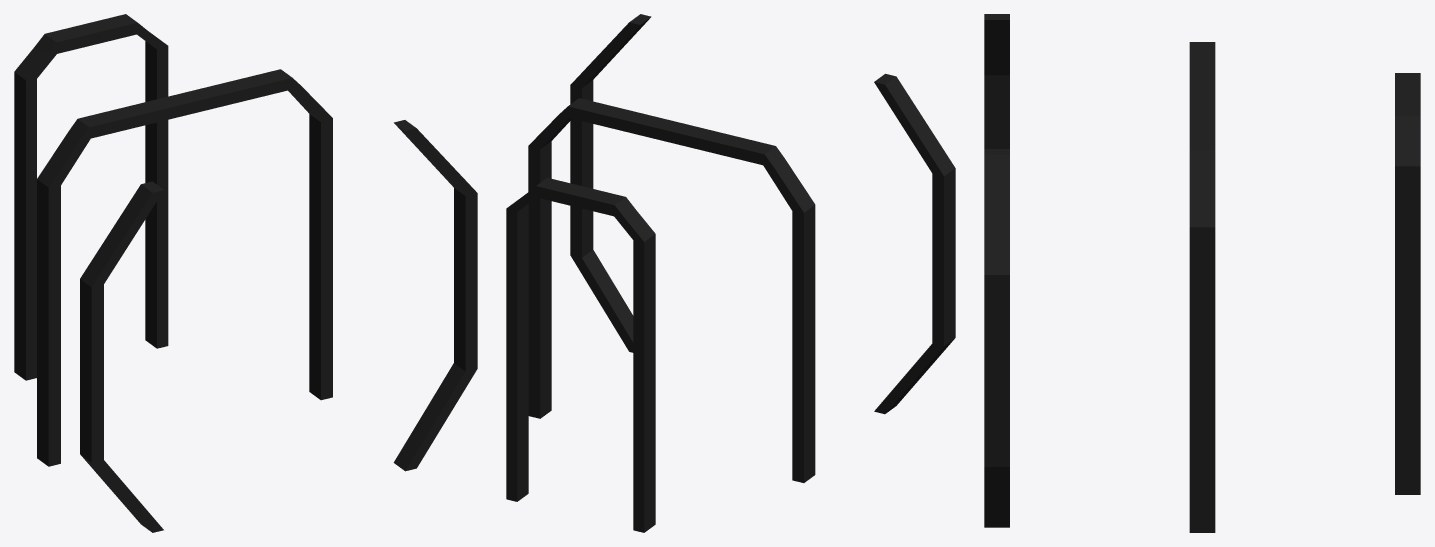
Rendered from CalShipDoorExtra.gltf.
3 renders of one model, left to right at view 1: azimuth 30°, elevation 25°; view 2: azimuth 150°, elevation 25°; view 3: azimuth 270°, elevation 25°, orthographic. The views are drawn at different scales.
Visible parts, largest first — view 1: Medium, mesh, Small; view 2: Medium, Small, mesh; view 3: mesh, Medium, Small.
Part boxes in pixels (<box>): Medium: <box>37,69,332,466</box>; mesh: <box>80,120,477,532</box>; Small: <box>14,14,168,380</box>; Medium: <box>528,98,815,482</box>; Small: <box>506,177,655,532</box>; mesh: <box>570,14,955,414</box>; mesh: <box>984,14,1009,527</box>; Medium: <box>1189,42,1215,532</box>; Small: <box>1395,73,1420,494</box>.
Size of the model in its own units: 2.38 by 2 by 2.12.
Materials: 1 (1 with a texture image).
